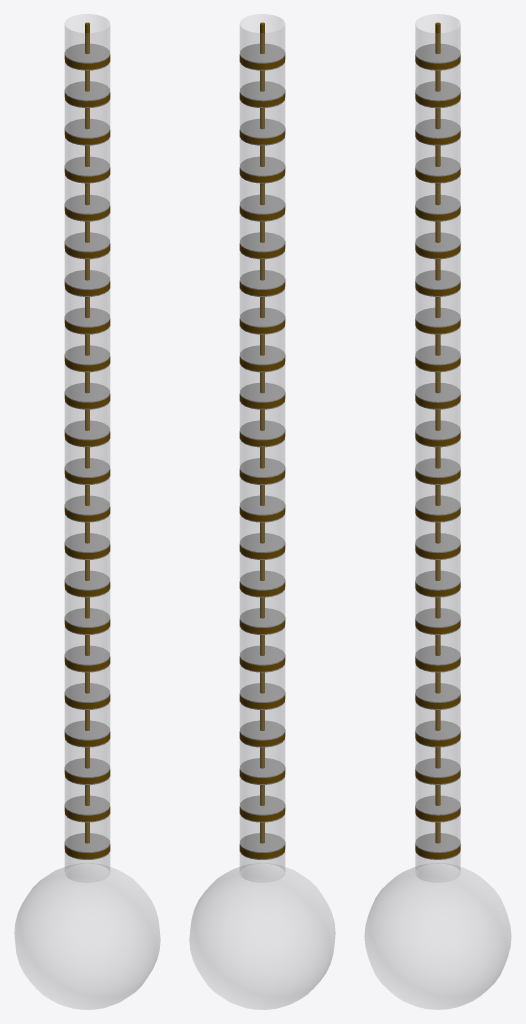
Rendered from MainFlask.fbx.
The picture shows the model from 3 angles, left to right: view 1: azimuth 30°, elevation 25°; view 2: azimuth 150°, elevation 25°; view 3: azimuth 270°, elevation 25°; orthographic projection.
Visible parts, largest first — view 1: pSphere1, pasted__pCylinder85, pasted__pCylinder69, pasted__pCylinder73, pasted__pCylinder43, pasted__pCylinder77, pasted__pCylinder58, pasted__pCylinder50, pasted__pCylinder61, pCylinder2, pasted__pCylinder11, pasted__pCylinder81 (+34 smaller); view 2: pSphere1, pasted__pCylinder85, pasted__pCylinder69, pasted__pCylinder73, pasted__pCylinder43, pasted__pCylinder77, pasted__pCylinder58, pasted__pCylinder50, pasted__pCylinder61, pCylinder2, pasted__pCylinder11, pasted__pCylinder81 (+34 smaller); view 3: pSphere1, pasted__pCylinder85, pasted__pCylinder69, pasted__pCylinder73, pasted__pCylinder58, pasted__pCylinder54, pasted__pCylinder77, pasted__pCylinder22, pasted__pCylinder31, pasted__pCylinder36, pasted__pCylinder43, pasted__pCylinder50 (+34 smaller).
Part boxes in pixels (left/top/right/bottom): pSphere1: left=14, top=863, right=160, bottom=1009; pasted__pCylinder85: left=65, top=14, right=109, bottom=62; pasted__pCylinder69: left=65, top=176, right=109, bottom=213; pasted__pCylinder73: left=65, top=138, right=109, bottom=175; pasted__pCylinder43: left=65, top=440, right=109, bottom=476; pasted__pCylinder77: left=65, top=101, right=109, bottom=137; pasted__pCylinder58: left=65, top=289, right=109, bottom=326; pasted__pCylinder50: left=65, top=365, right=109, bottom=401; pasted__pCylinder61: left=65, top=252, right=109, bottom=288; pCylinder2: left=65, top=815, right=109, bottom=851; pasted__pCylinder11: left=65, top=740, right=109, bottom=776; pasted__pCylinder81: left=65, top=63, right=109, bottom=99; pSphere1: left=189, top=863, right=335, bottom=1009; pasted__pCylinder85: left=240, top=14, right=284, bottom=62; pasted__pCylinder69: left=240, top=176, right=284, bottom=213; pasted__pCylinder73: left=240, top=138, right=284, bottom=175; pasted__pCylinder43: left=240, top=440, right=284, bottom=476; pasted__pCylinder77: left=240, top=101, right=284, bottom=137; pasted__pCylinder58: left=240, top=289, right=284, bottom=326; pasted__pCylinder50: left=240, top=365, right=284, bottom=401; pasted__pCylinder61: left=240, top=252, right=284, bottom=288; pCylinder2: left=240, top=815, right=284, bottom=851; pasted__pCylinder11: left=240, top=740, right=284, bottom=776; pasted__pCylinder81: left=240, top=63, right=284, bottom=99; pSphere1: left=364, top=863, right=511, bottom=1009; pasted__pCylinder85: left=415, top=14, right=460, bottom=62; pasted__pCylinder69: left=415, top=176, right=460, bottom=213; pasted__pCylinder73: left=415, top=138, right=460, bottom=175; pasted__pCylinder58: left=415, top=289, right=460, bottom=326; pasted__pCylinder54: left=415, top=327, right=460, bottom=363; pasted__pCylinder77: left=415, top=100, right=460, bottom=137; pasted__pCylinder22: left=415, top=627, right=460, bottom=664; pasted__pCylinder31: left=415, top=552, right=460, bottom=589; pasted__pCylinder36: left=415, top=477, right=460, bottom=514; pasted__pCylinder43: left=415, top=439, right=460, bottom=476; pasted__pCylinder50: left=415, top=364, right=460, bottom=401.
Size of the model in its own units: 45.4 by 334 by 45.4.
